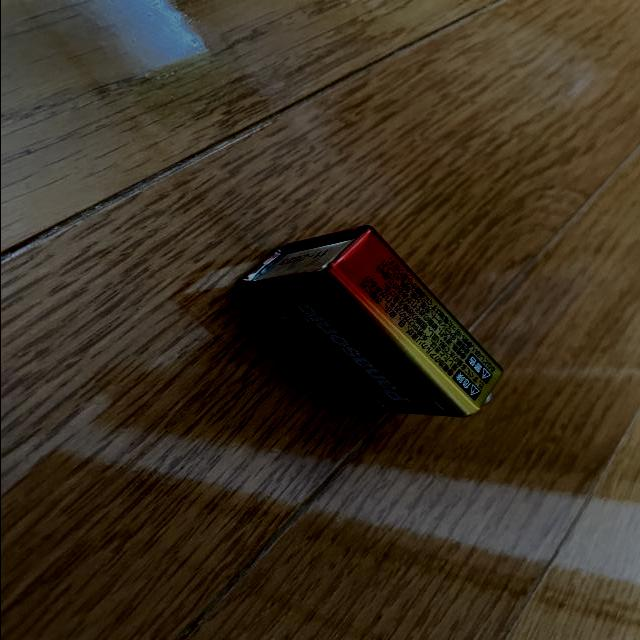9V: (237, 227, 506, 419)
